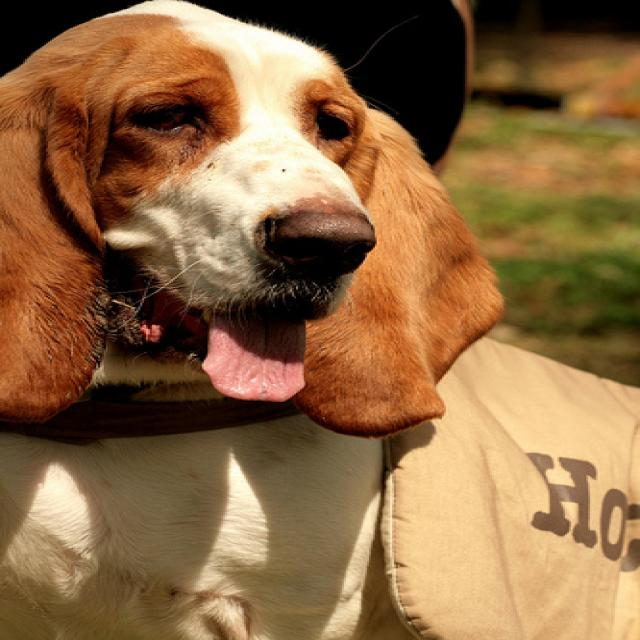dog-basset_hound: (2, 1, 517, 637)
